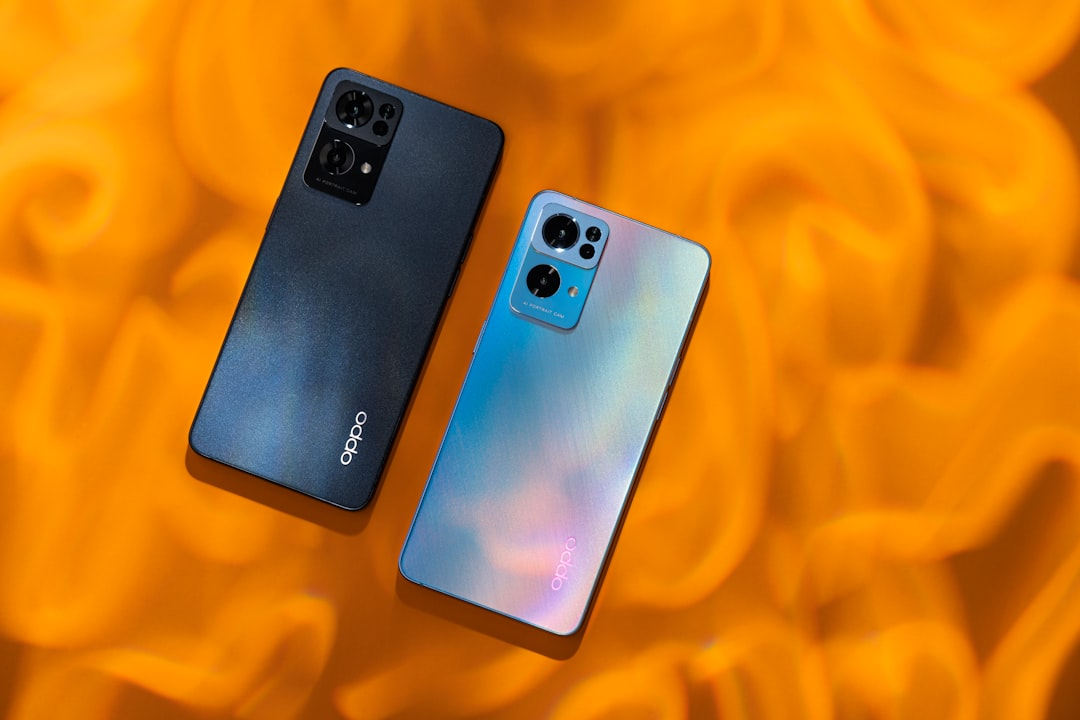phone: (183, 63, 506, 519), (395, 185, 710, 641)
